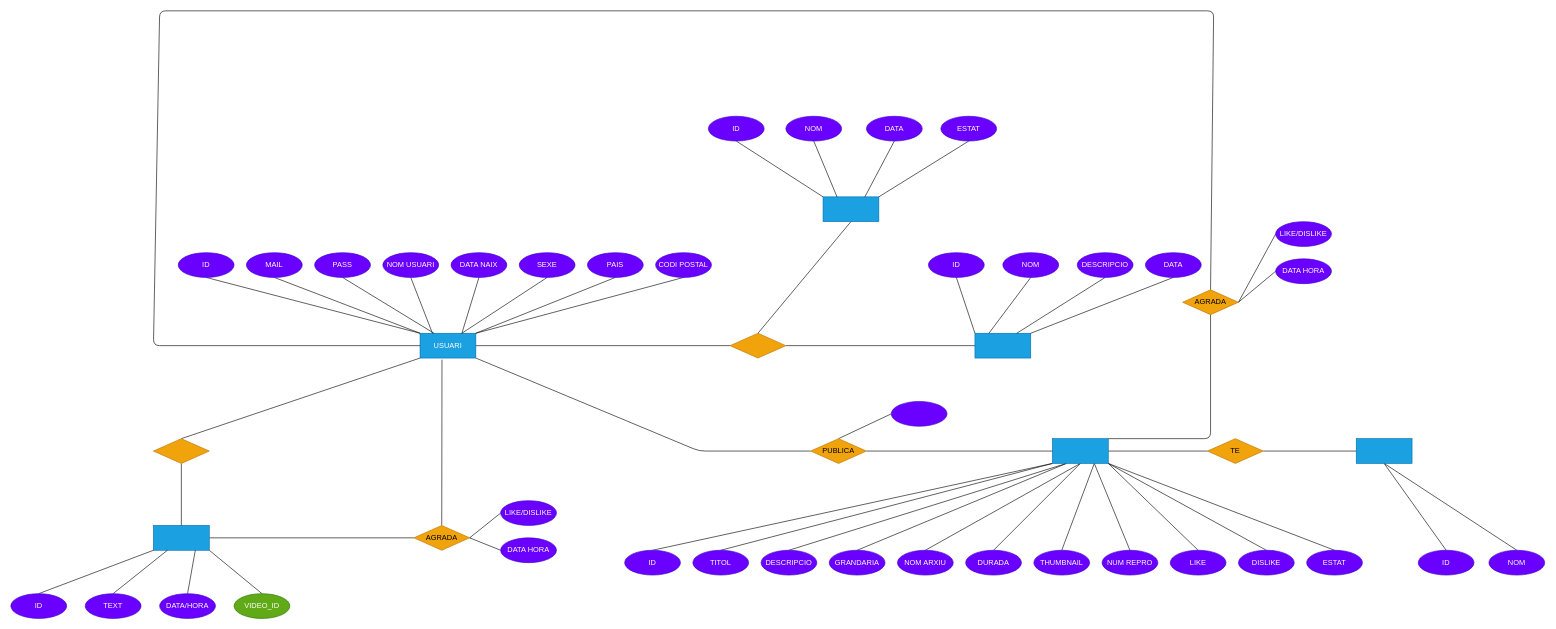
Image size: 1556x629. Some labels were removed from this diagram. Here are the shapes that lost their labels. From the top down, the box of each, then its label:
(822, 196, 879, 222): PLAYLIST
(729, 333, 786, 358): CREA
(974, 333, 1031, 358): CANAL
(891, 401, 947, 426): DATA I HORA
(153, 438, 209, 463): ESCRIU
(1052, 438, 1108, 463): VIDEO
(1356, 438, 1412, 463): ETIQUETES
(153, 525, 209, 550): COMENTARIS
